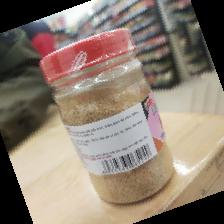Hao_hao: (39, 27, 172, 205)
